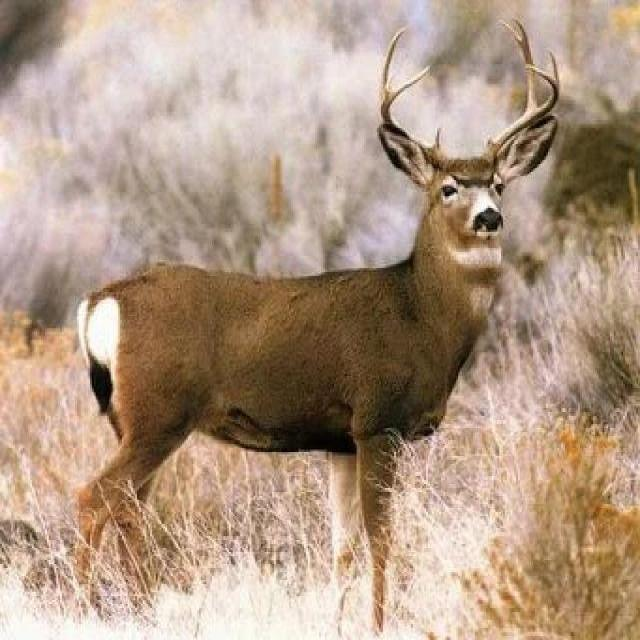deer: (54, 31, 591, 586)
